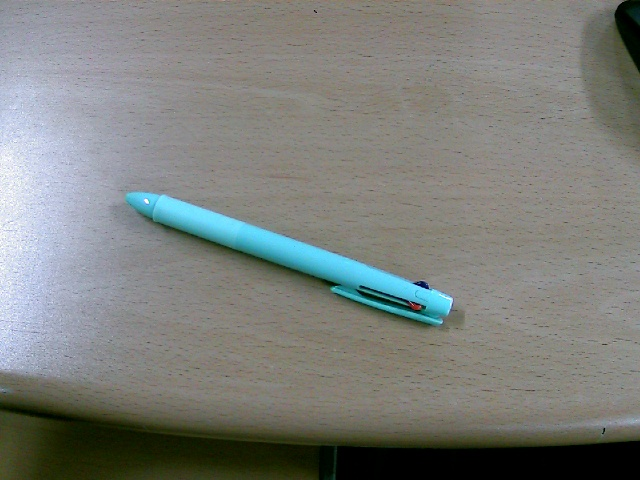pen: (119, 152, 470, 362)
